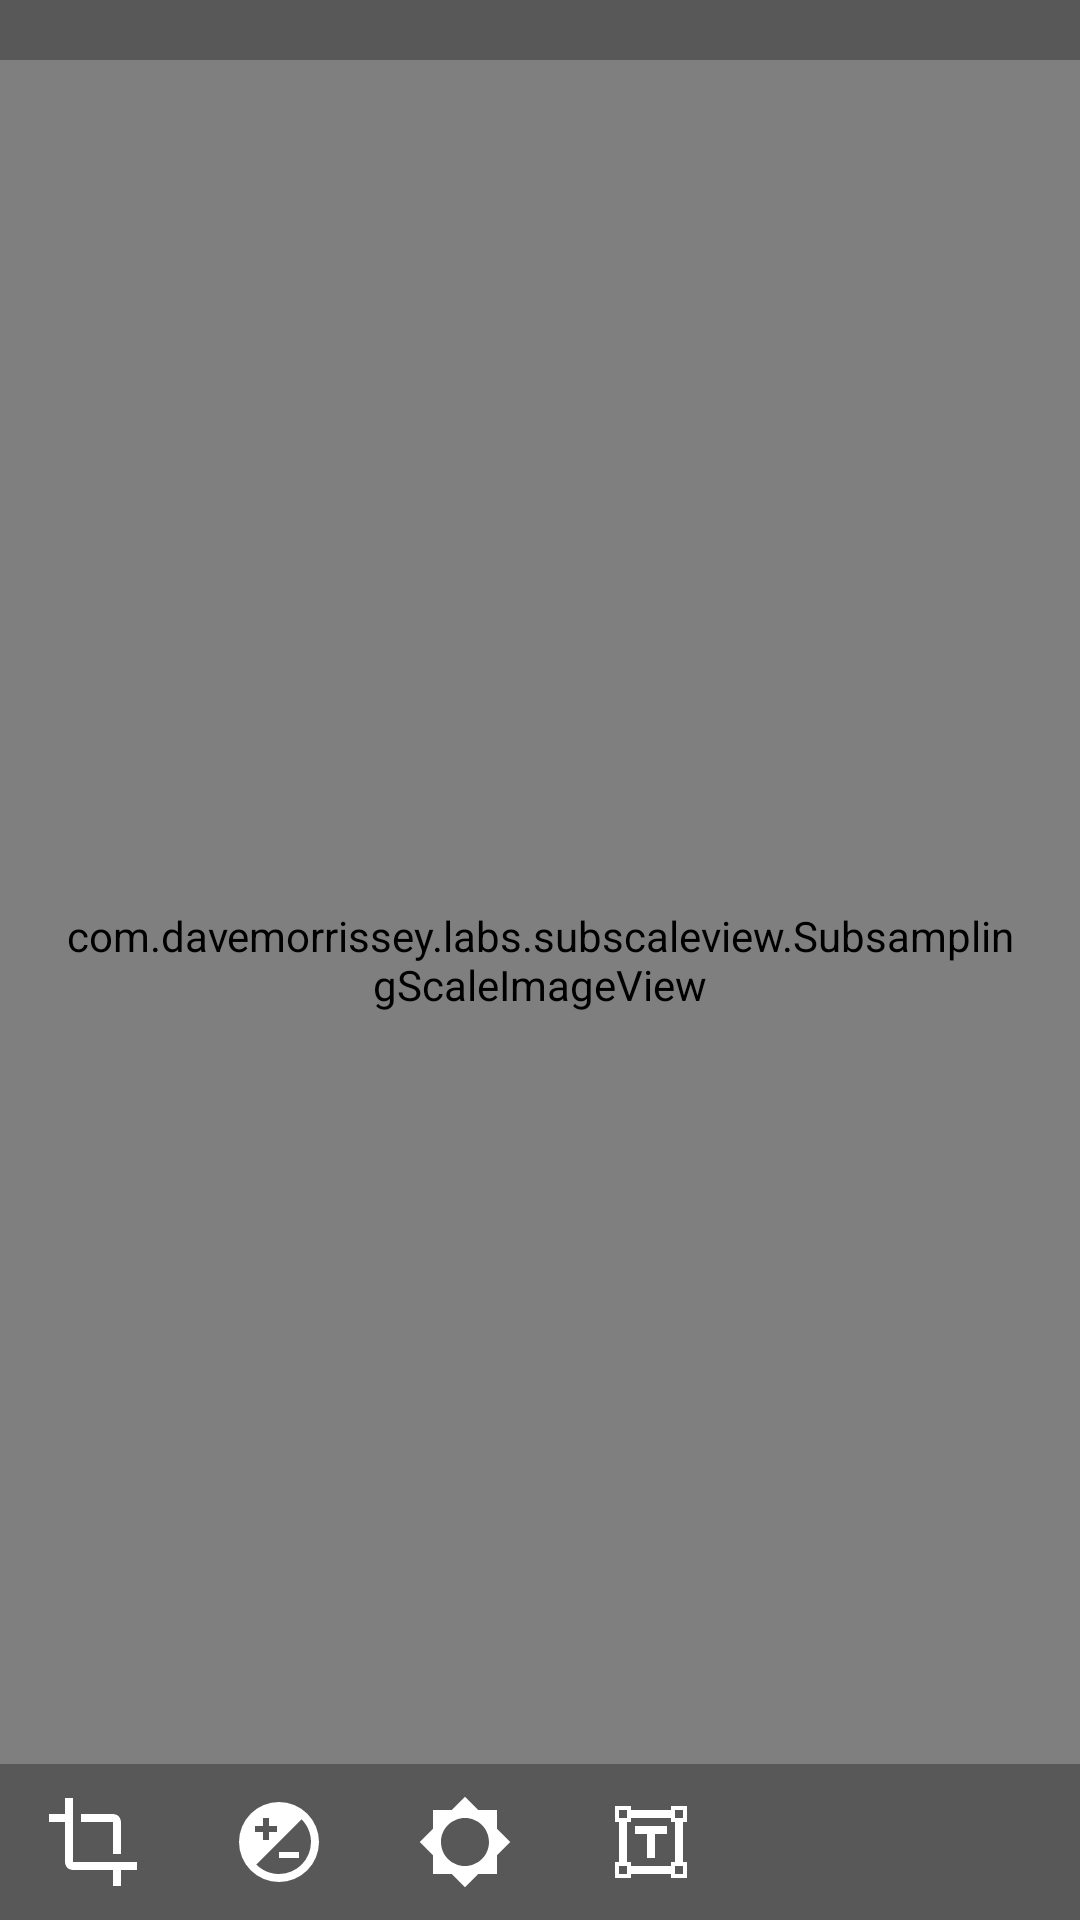

Screen size 1080px×1920px. Icon name, then its center in pixels as point (x, y):
brightness: point (465, 1842)
contrast circle: point (279, 1842)
crop: point (93, 1842)
format textbox: point (651, 1842)
